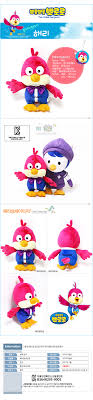Harry: (7, 48, 63, 114), (5, 275, 44, 329)
Petty: (41, 138, 75, 196)
